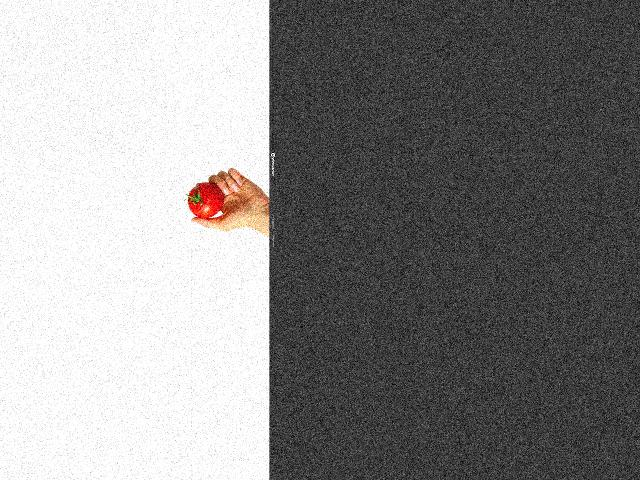tomato: (187, 183, 223, 218)
